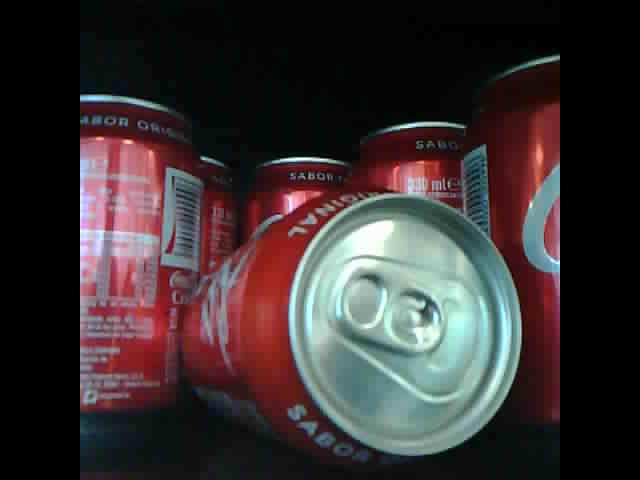coca cola: (180, 169, 526, 460), (80, 88, 203, 423), (469, 47, 559, 429), (359, 118, 473, 228), (240, 151, 350, 243), (194, 147, 236, 311)
